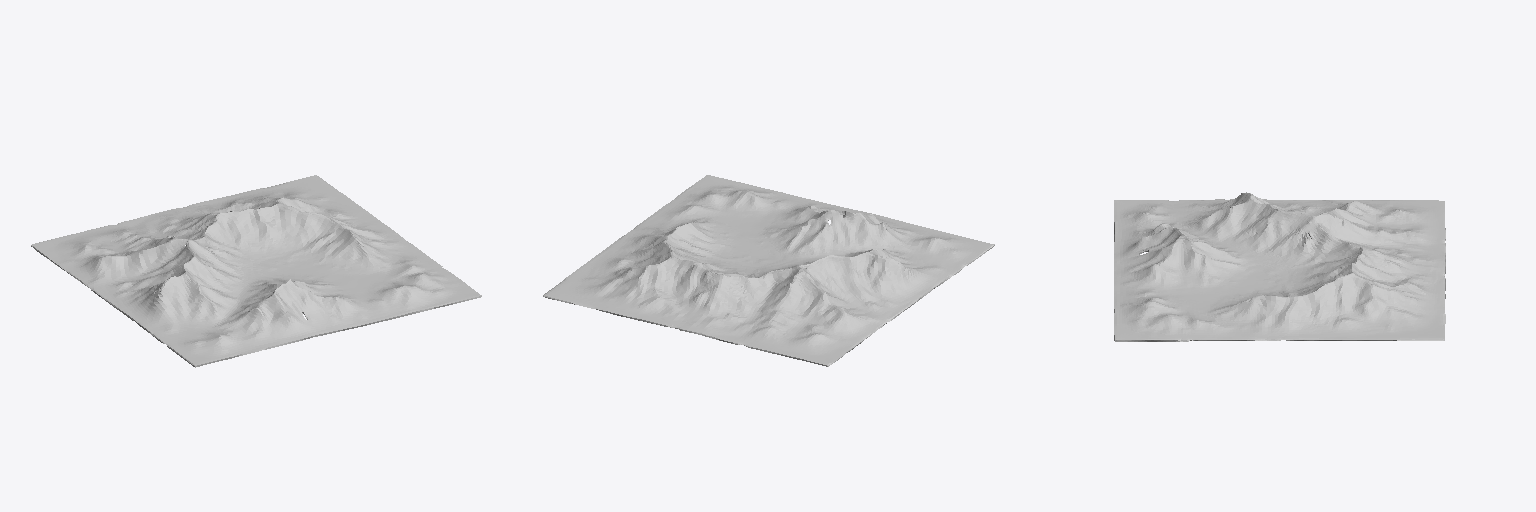
Rendered from mars.obj.
3 views of the same model, side by side, from view 1: azimuth 30°, elevation 25°; view 2: azimuth 150°, elevation 25°; view 3: azimuth 270°, elevation 25° (orthographic).
Visible parts, largest first — view 1: Mesh1_Mesh1.035; view 2: Mesh1_Mesh1.035; view 3: Mesh1_Mesh1.035.
Boxes of the visible parts, <box> form: Mesh1_Mesh1.035: <box>31,175,481,367</box>; Mesh1_Mesh1.035: <box>543,175,994,366</box>; Mesh1_Mesh1.035: <box>1114,192,1445,341</box>.
Bounding box in the file's own units: 2.01 × 0.2132 × 2.